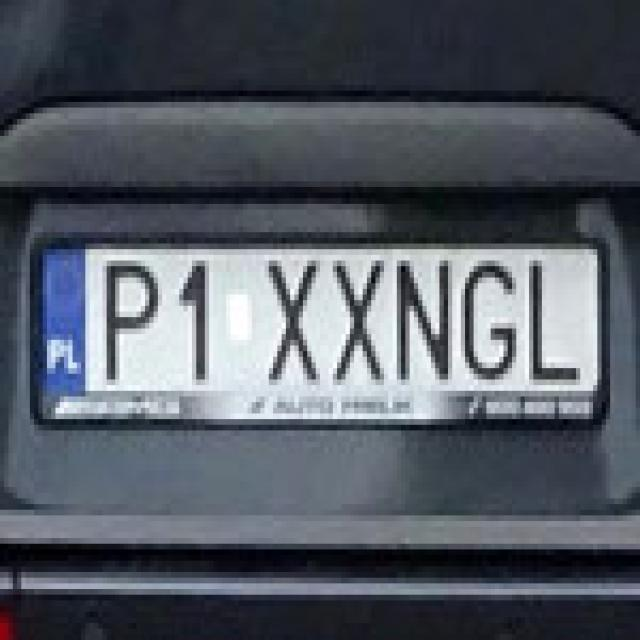pl_license_plate: (34, 238, 593, 385)
